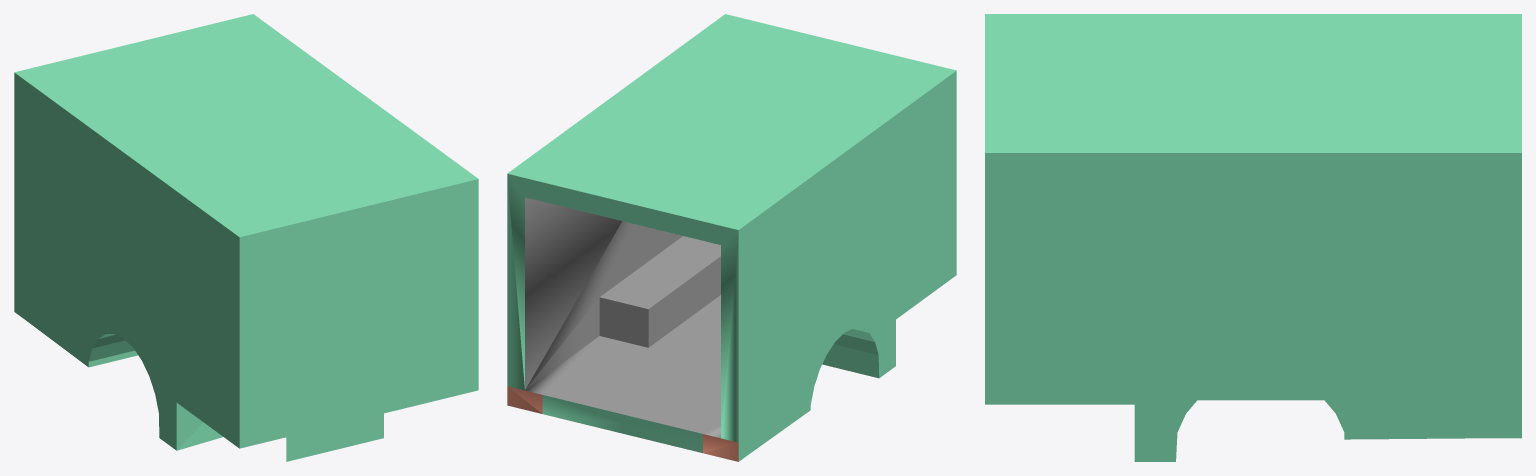
Rendered from Medium TruckDelivery Body.fbx.
The picture shows the model from 3 angles, left to right: view 1: azimuth 30°, elevation 25°; view 2: azimuth 150°, elevation 25°; view 3: azimuth 270°, elevation 25°; orthographic projection. The views are drawn at different scales.
Parts seen in each view (by area): view 1: DeliveryTruck Body; view 2: DeliveryTruck Body; view 3: DeliveryTruck Body.
Boxes of the visible parts, <box> form: DeliveryTruck Body: <box>14,14,478,461</box>; DeliveryTruck Body: <box>507,14,956,461</box>; DeliveryTruck Body: <box>985,14,1521,461</box>.
Size of the model in its own units: 125 by 130 by 205.
